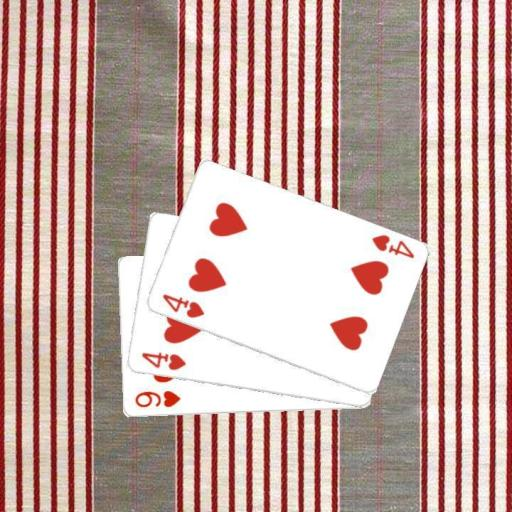card-corner: (158, 291, 206, 320), (368, 231, 415, 260), (138, 349, 187, 373), (131, 388, 181, 410)
